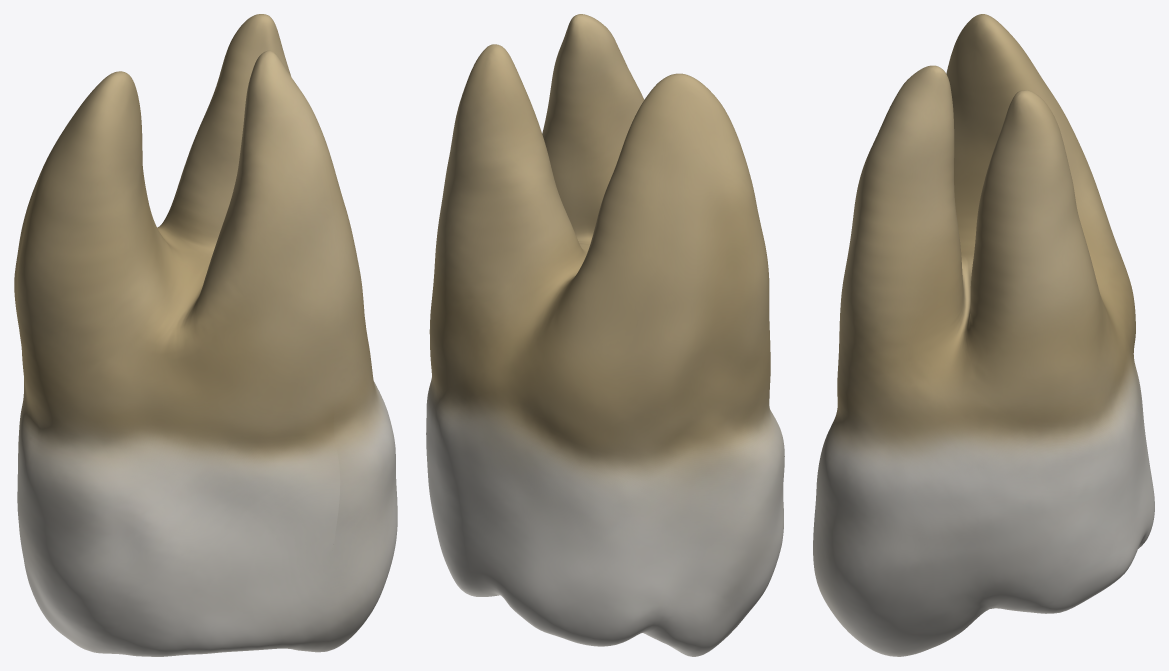
The model's file is maxillary_second_molar.glb.
3 renders of one model, left to right at view 1: azimuth 30°, elevation 25°; view 2: azimuth 150°, elevation 25°; view 3: azimuth 270°, elevation 25°, orthographic. The views are drawn at different scales.
Visible parts, largest first — view 1: Object_2; view 2: Object_2; view 3: Object_2.
Boxes of the visible parts, x1=… form: Object_2: x1=14, y1=14, x2=397, y2=656; Object_2: x1=426, y1=14, x2=784, y2=656; Object_2: x1=813, y1=14, x2=1154, y2=656.
Bounding box in the file's own units: 0.9303 × 1.58 × 0.8568.
Materials: 1 (1 with a texture image).
